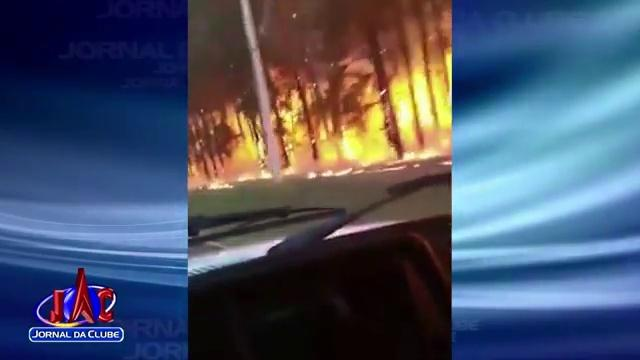fire: (391, 72, 446, 128), (342, 112, 396, 163), (238, 137, 268, 162)
